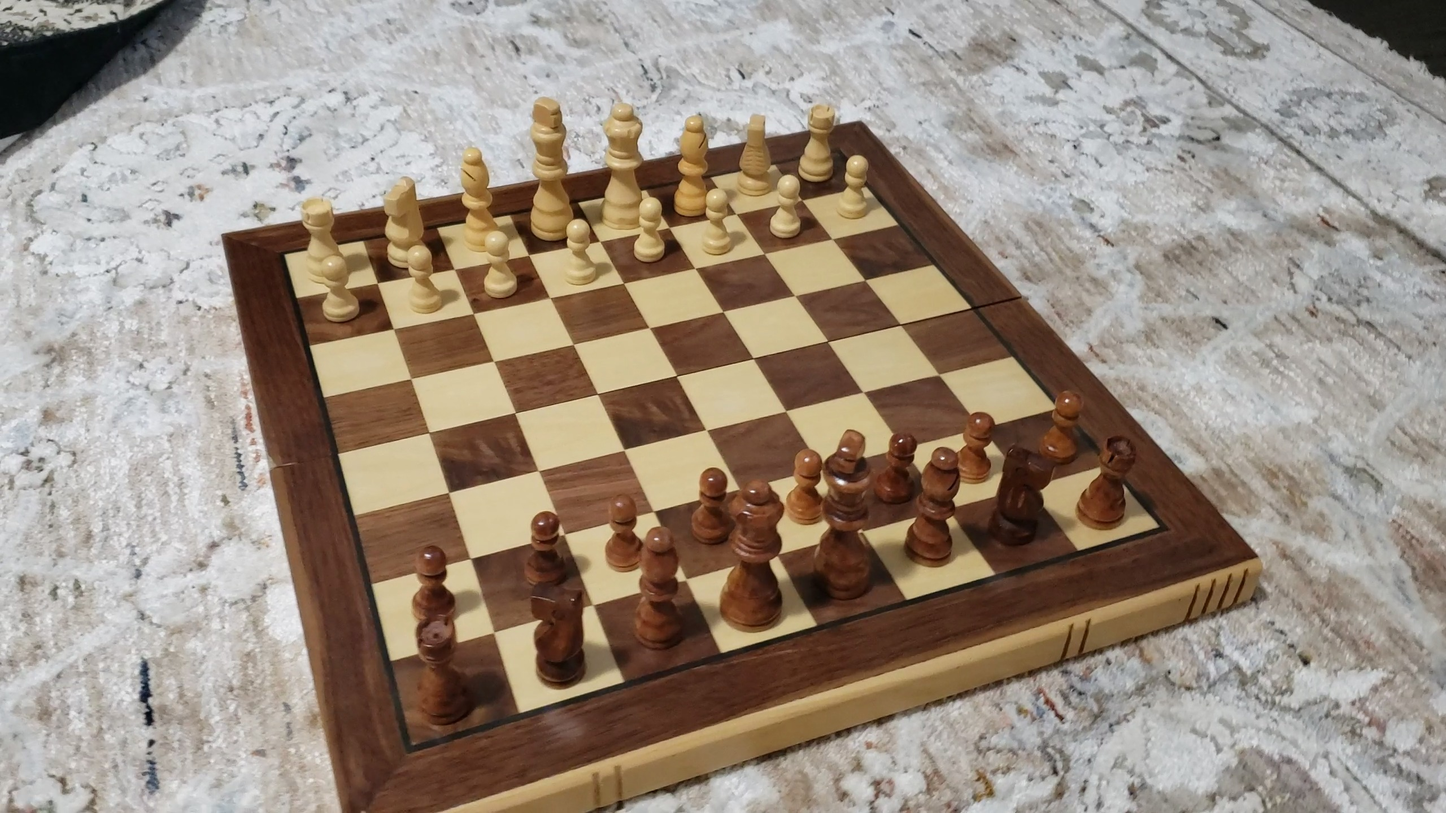black-bishop: (631, 525, 687, 652), (909, 446, 964, 566)
black-king: (814, 424, 877, 598)
black-knight: (985, 444, 1056, 547), (525, 582, 589, 688)
black-pawn: (409, 540, 457, 626), (522, 508, 571, 589), (1038, 386, 1086, 466), (690, 464, 734, 545), (602, 492, 644, 572), (785, 445, 825, 527), (955, 408, 998, 483), (880, 427, 921, 505)
black-queen: (719, 481, 789, 634)
black-rook: (412, 615, 475, 728), (1075, 434, 1140, 528)
white-bishop: (456, 143, 502, 255), (673, 109, 712, 218)
white-king: (528, 90, 572, 243)
white-knight: (367, 161, 437, 268), (734, 108, 774, 197)
white-pawn: (307, 250, 366, 329), (397, 239, 449, 318), (474, 226, 526, 305), (554, 213, 606, 292), (694, 180, 743, 260), (763, 164, 810, 243), (628, 191, 674, 269), (831, 149, 878, 224)
white-queen: (600, 96, 647, 231)
white-rook: (298, 194, 348, 281), (796, 99, 840, 188)
